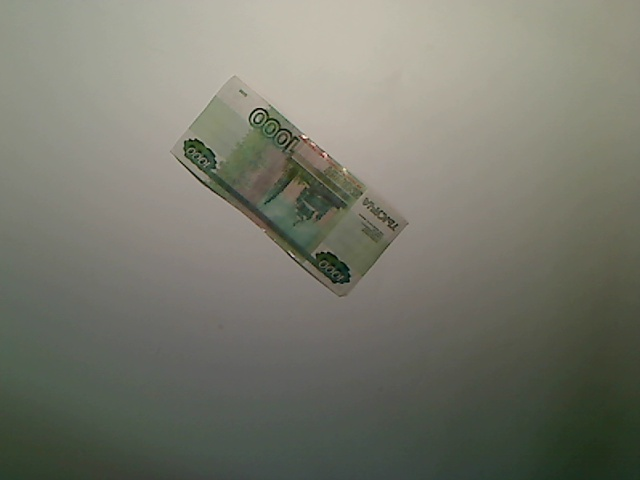banknotes: (166, 70, 416, 303)
